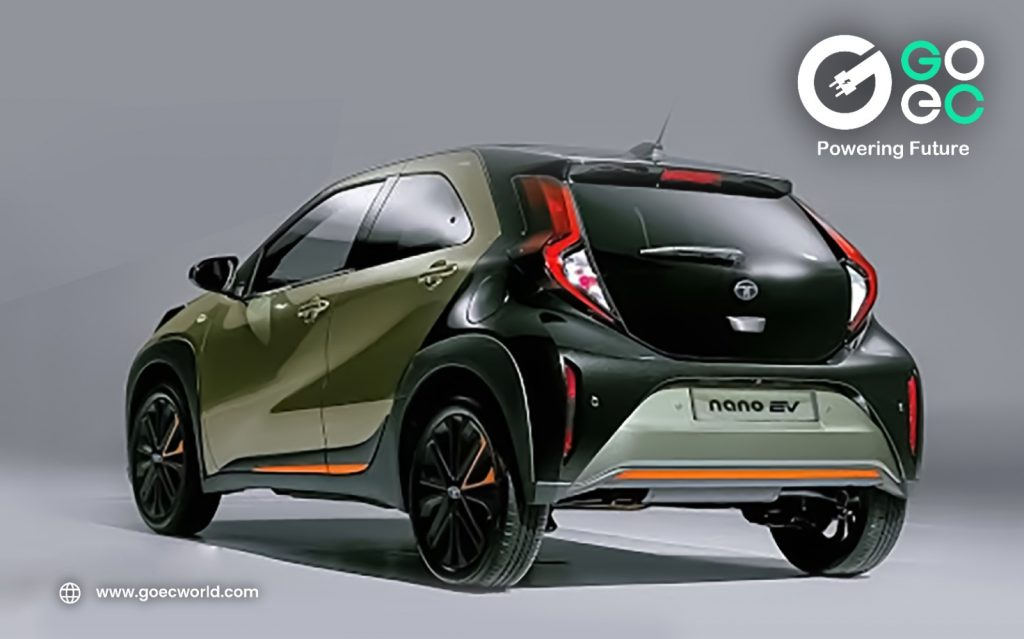Nano: (125, 144, 927, 594)
